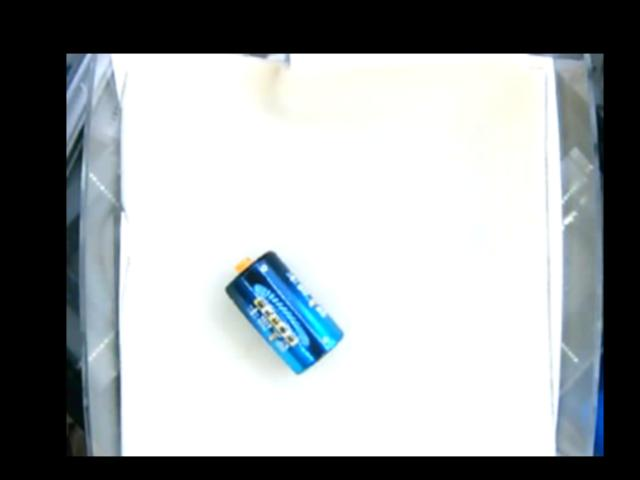Battery: (223, 247, 345, 376)
